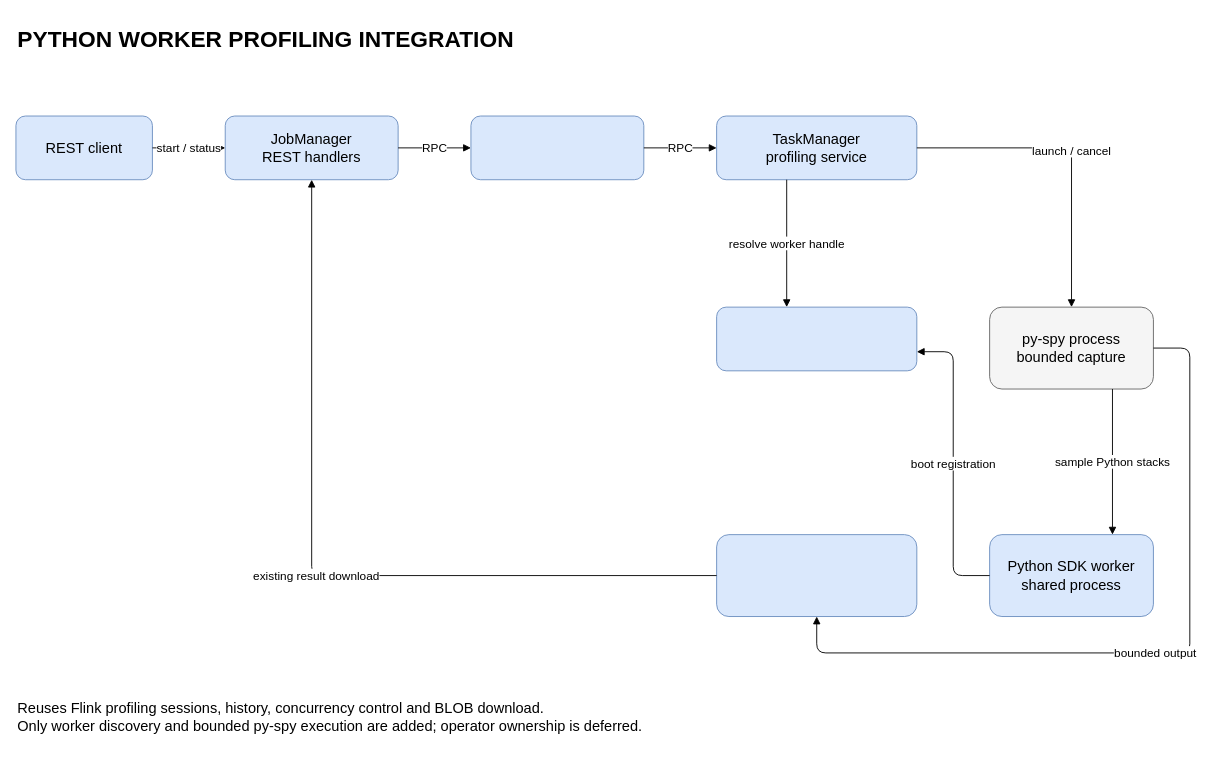
The diagram is 1213 pixels wide and 768 high, and some of its shapes have lost their labels. Here are the shapes that lost their labels. From the top down, the box of each, then its label:
(470, 115, 644, 180): ResourceManager route to TM
(716, 306, 917, 371): Worker registry PID + start token
(716, 534, 917, 617): Profile artifacts Transient BLOB download
